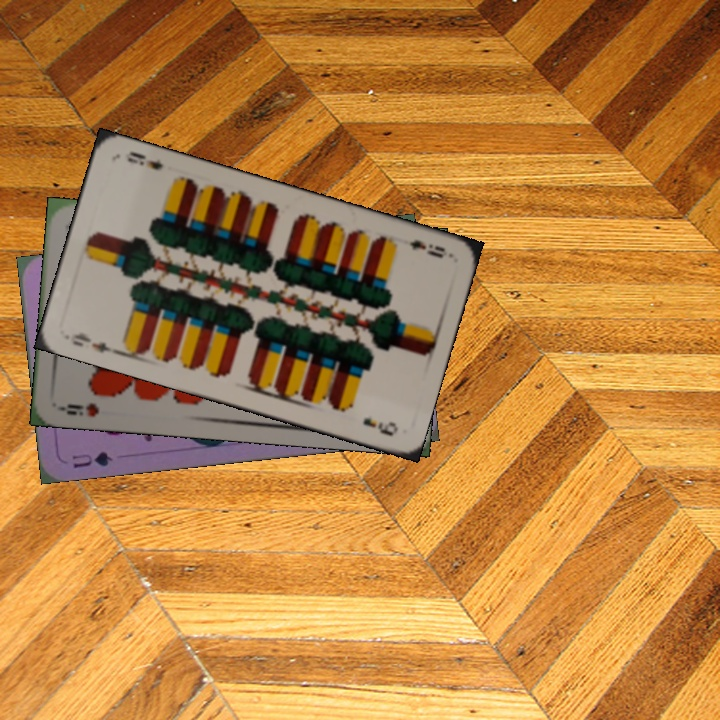E9: (63, 328, 121, 357), (405, 235, 448, 261)
GU: (68, 447, 115, 471)
H9: (56, 399, 101, 419)
